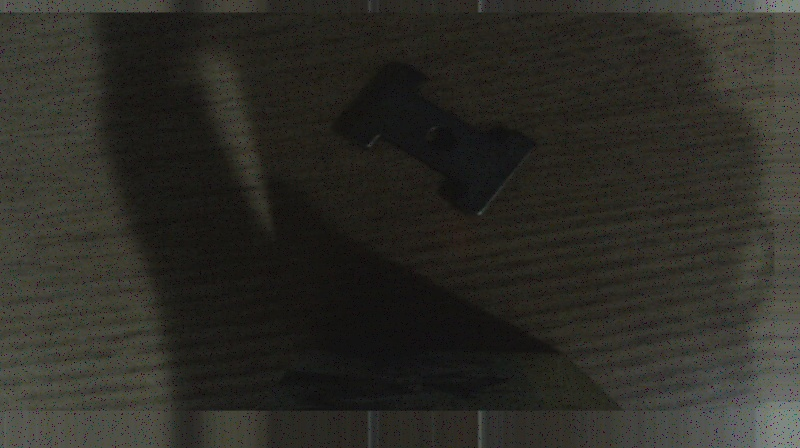O002: (330, 58, 538, 219)
